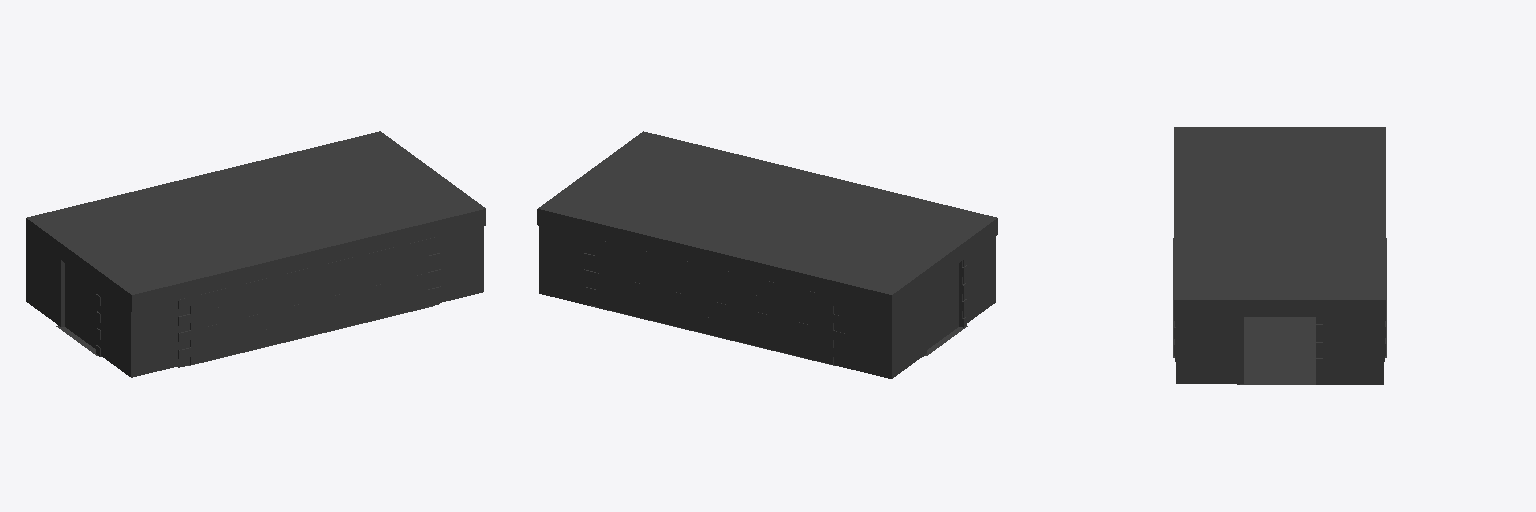
The model's file is cave2.obj.
3 views of the same model, side by side, from view 1: azimuth 30°, elevation 25°; view 2: azimuth 150°, elevation 25°; view 3: azimuth 270°, elevation 25° (orthographic).
Visible parts, largest first — view 1: Cube.005, Cube.081, Cube.001, Cube.003, Cube.002, Cube.004, Plane.002; view 2: Cube.005, Cube.081, Cube.001, Cube.004, Cube, Cube.003, Plane.002; view 3: Cube.005, Plane, Cube, Cube.002, Cube.081.
Part boxes in pixels (bbox=[...]): Cube.005: bbox=[26, 131, 485, 311]; Cube.081: bbox=[58, 269, 440, 367]; Cube.001: bbox=[58, 236, 440, 332]; Cube.003: bbox=[98, 287, 177, 377]; Cube.002: bbox=[440, 226, 483, 302]; Cube.004: bbox=[26, 235, 57, 324]; Plane.002: bbox=[65, 263, 97, 348]; Cube.005: bbox=[537, 131, 997, 311]; Cube.081: bbox=[584, 269, 966, 364]; Cube.001: bbox=[584, 236, 966, 330]; Cube.004: bbox=[835, 290, 922, 378]; Cube: bbox=[539, 226, 589, 305]; Cube.003: bbox=[963, 236, 995, 322]; Plane.002: bbox=[927, 263, 958, 349]; Cube.005: bbox=[1174, 127, 1385, 316]; Plane: bbox=[1173, 238, 1386, 384]; Cube: bbox=[1319, 317, 1383, 384]; Cube.002: bbox=[1176, 317, 1236, 383]; Cube.081: bbox=[1174, 321, 1385, 384].
Bounding box in the file's own units: 117 × 26.58 × 60.26.